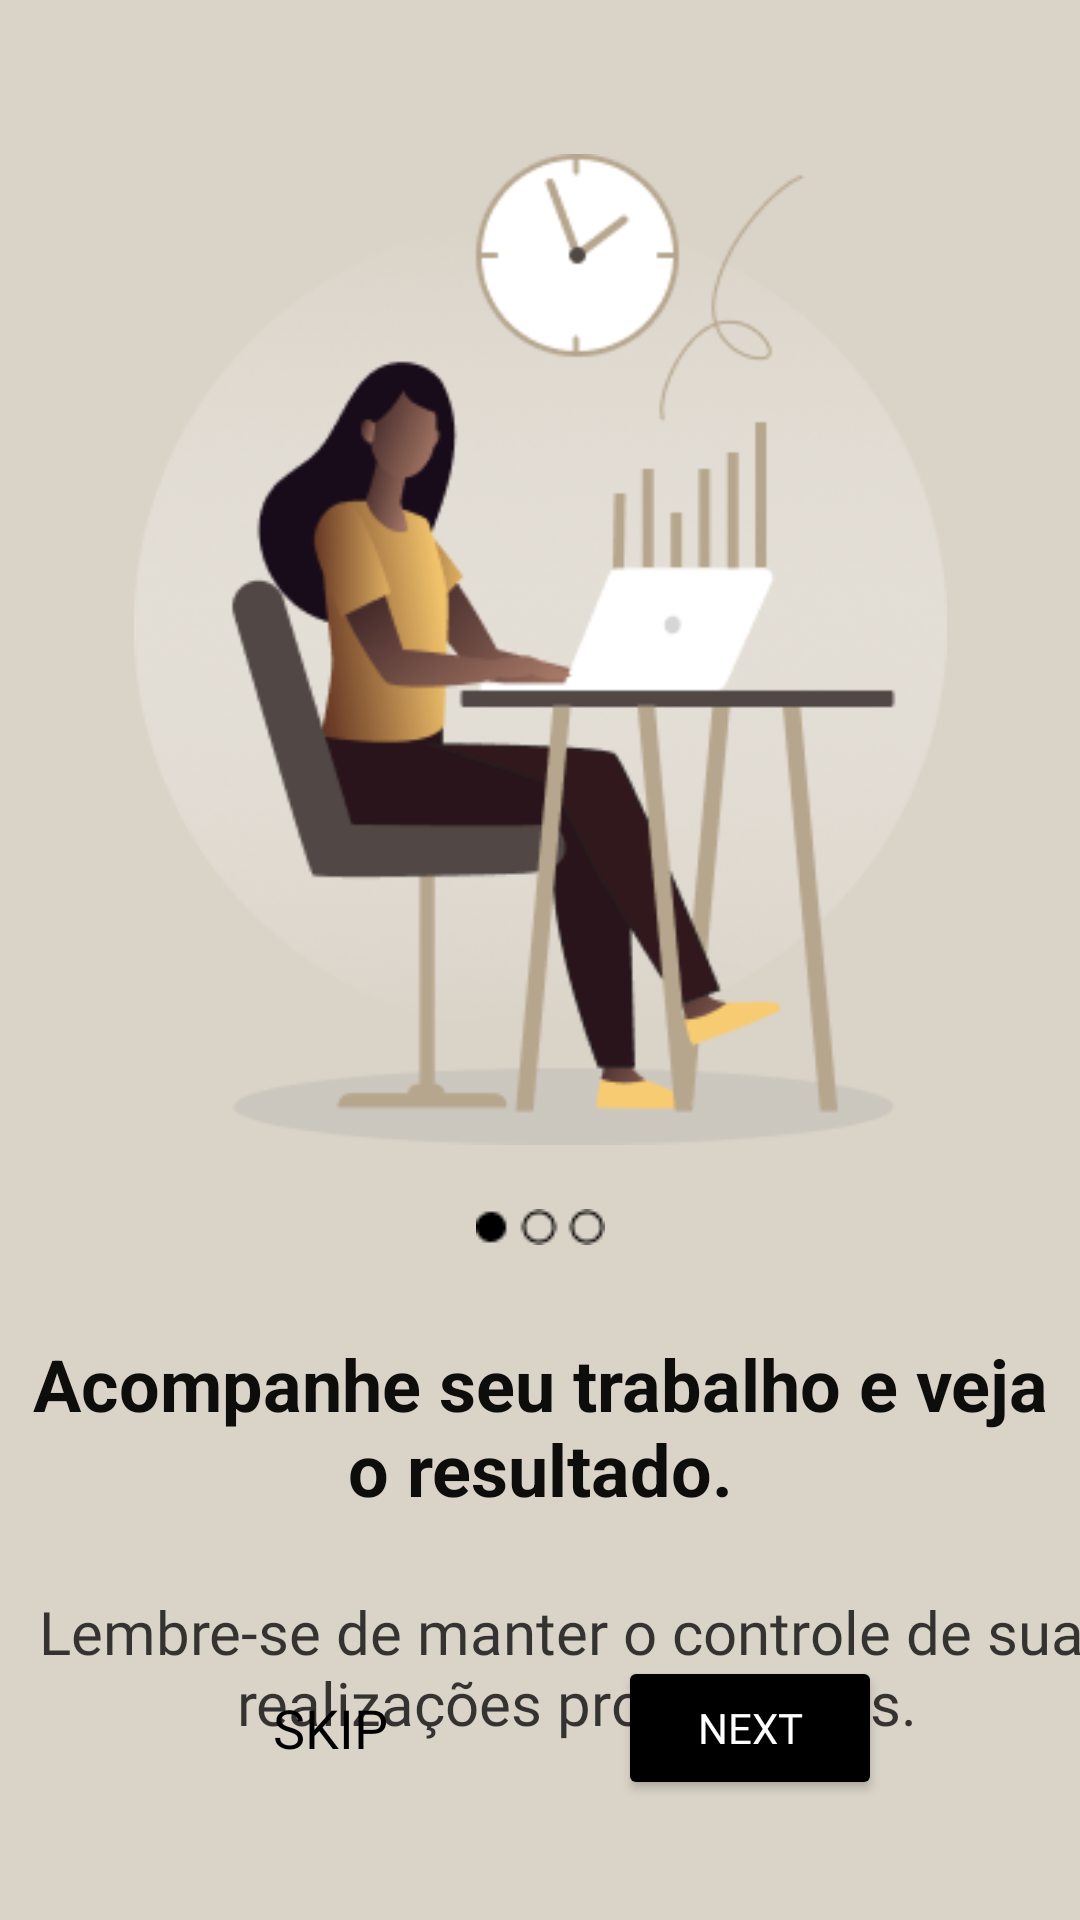

Named icons in this screenshot (1080 x 1920) and their centers, (x,y):
first roll view: (540,1227)
